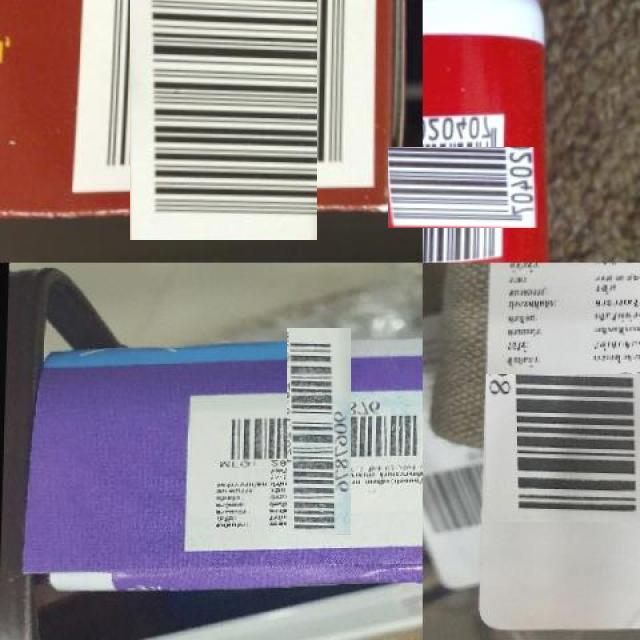Barcode: (104, 0, 344, 214), (489, 371, 640, 526), (252, 363, 387, 500), (405, 130, 522, 245)
